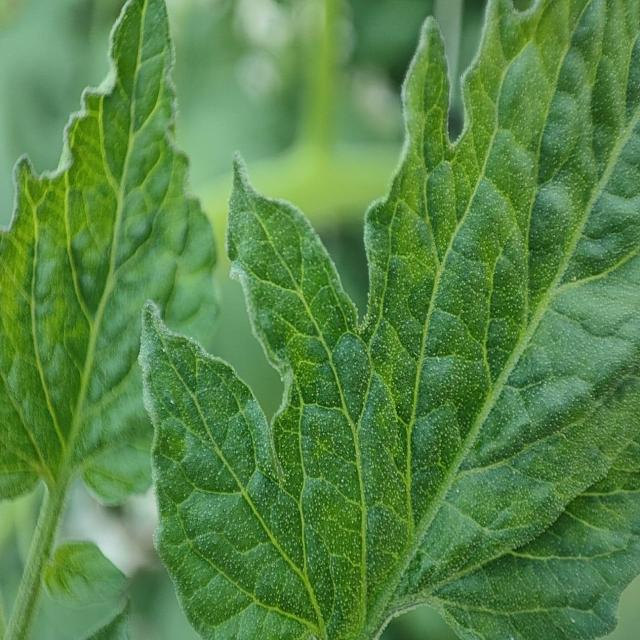T_L_R: (141, 3, 640, 638), (1, 3, 217, 500)
T_S_R: (6, 486, 69, 639)
